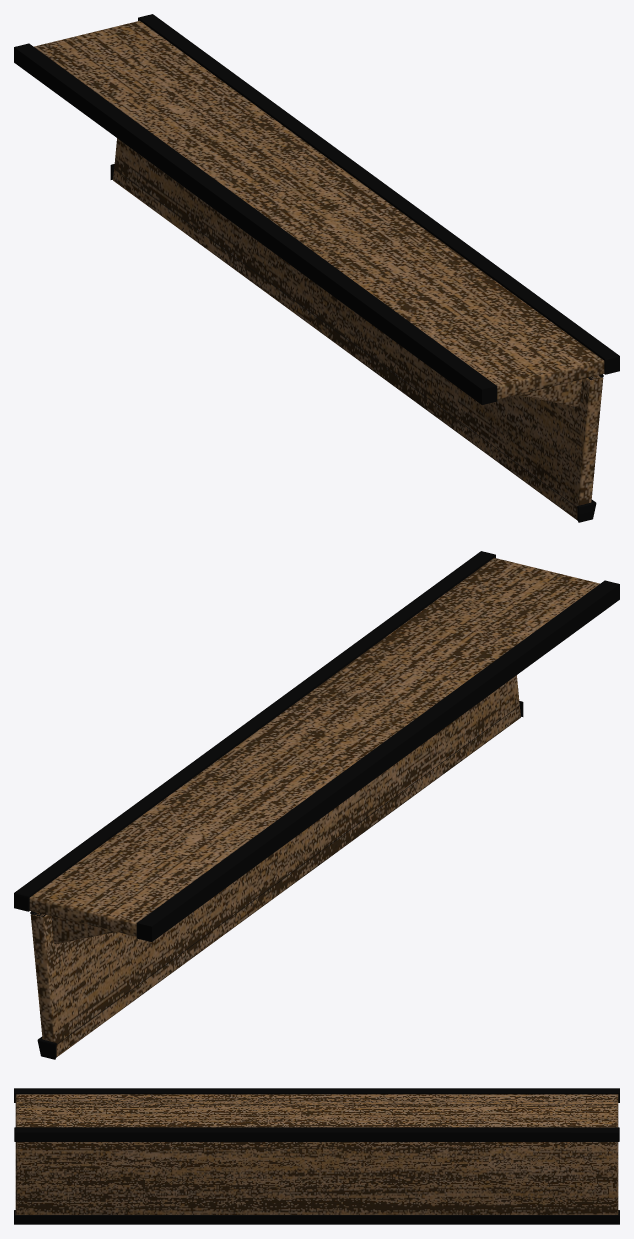
File: Vico_Object_Court_Desk_Judge.fbx
The picture shows the model from 3 angles, top to bottom: view 1: azimuth 30°, elevation 25°; view 2: azimuth 150°, elevation 25°; view 3: azimuth 270°, elevation 25°; orthographic projection. The views are drawn at different scales.
Visible parts, largest first — view 1: Court_Desk_Judge; view 2: Court_Desk_Judge; view 3: Court_Desk_Judge.
Boxes of the visible parts, <box> form: Court_Desk_Judge: <box>14,14,619,522</box>; Court_Desk_Judge: <box>14,551,619,1059</box>; Court_Desk_Judge: <box>14,1088,619,1224</box>.
Size of the model in its own units: 103 by 112 by 604.
